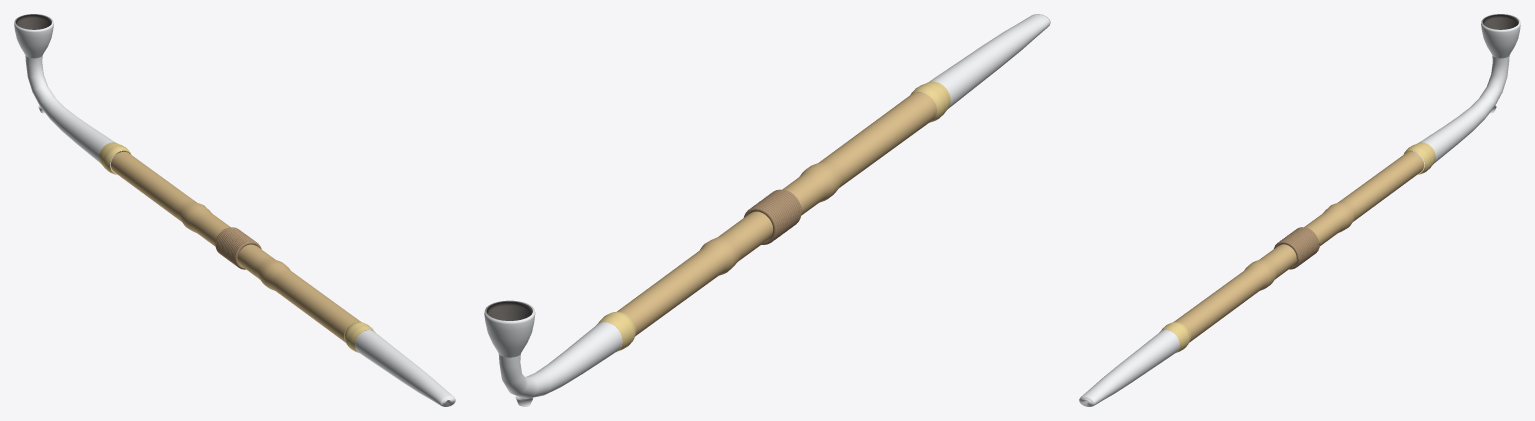
Rendered from kabuki_kiseru_prop.glb.
3 renders of one model, left to right at view 1: azimuth 30°, elevation 25°; view 2: azimuth 150°, elevation 25°; view 3: azimuth 330°, elevation 25°, orthographic. The views are drawn at different scales.
Parts seen in each view (by area): view 1: BambooStem_Raos, Mouthpiece_Suikuchi, Gooseneck_Gankubi, Bowl_Hizara, RattanGripWrap_Maki, Ferrule_GankubiJoint, Ferrule_SuikuchiJoint; view 2: BambooStem_Raos, Gooseneck_Gankubi, Mouthpiece_Suikuchi, Bowl_Hizara, RattanGripWrap_Maki, Ferrule_SuikuchiJoint, Ferrule_GankubiJoint; view 3: BambooStem_Raos, Mouthpiece_Suikuchi, Gooseneck_Gankubi, Bowl_Hizara, RattanGripWrap_Maki, Ferrule_GankubiJoint, Ferrule_SuikuchiJoint.
Boxes of the visible parts, bbox=[...] form: BambooStem_Raos: bbox=[110, 151, 365, 344]; Mouthpiece_Suikuchi: bbox=[355, 330, 455, 406]; Gooseneck_Gankubi: bbox=[25, 55, 121, 166]; Bowl_Hizara: bbox=[14, 14, 53, 58]; RattanGripWrap_Maki: bbox=[215, 227, 261, 269]; Ferrule_GankubiJoint: bbox=[99, 142, 131, 174]; Ferrule_SuikuchiJoint: bbox=[344, 322, 375, 352]; BambooStem_Raos: bbox=[608, 92, 936, 340]; Gooseneck_Gankubi: bbox=[498, 322, 622, 406]; Mouthpiece_Suikuchi: bbox=[922, 14, 1050, 108]; Bowl_Hizara: bbox=[484, 300, 535, 357]; RattanGripWrap_Maki: bbox=[743, 189, 801, 244]; Ferrule_SuikuchiJoint: bbox=[910, 81, 950, 122]; Ferrule_GankubiJoint: bbox=[597, 312, 635, 351]; BambooStem_Raos: bbox=[1169, 151, 1424, 344]; Mouthpiece_Suikuchi: bbox=[1079, 330, 1179, 406]; Gooseneck_Gankubi: bbox=[1413, 55, 1509, 166]; Bowl_Hizara: bbox=[1481, 14, 1520, 58]; RattanGripWrap_Maki: bbox=[1274, 227, 1319, 269]; Ferrule_GankubiJoint: bbox=[1403, 142, 1435, 174]; Ferrule_SuikuchiJoint: bbox=[1159, 322, 1190, 352].
Bounding box in the file's own units: 0.0915 × 0.2297 × 1.95.
